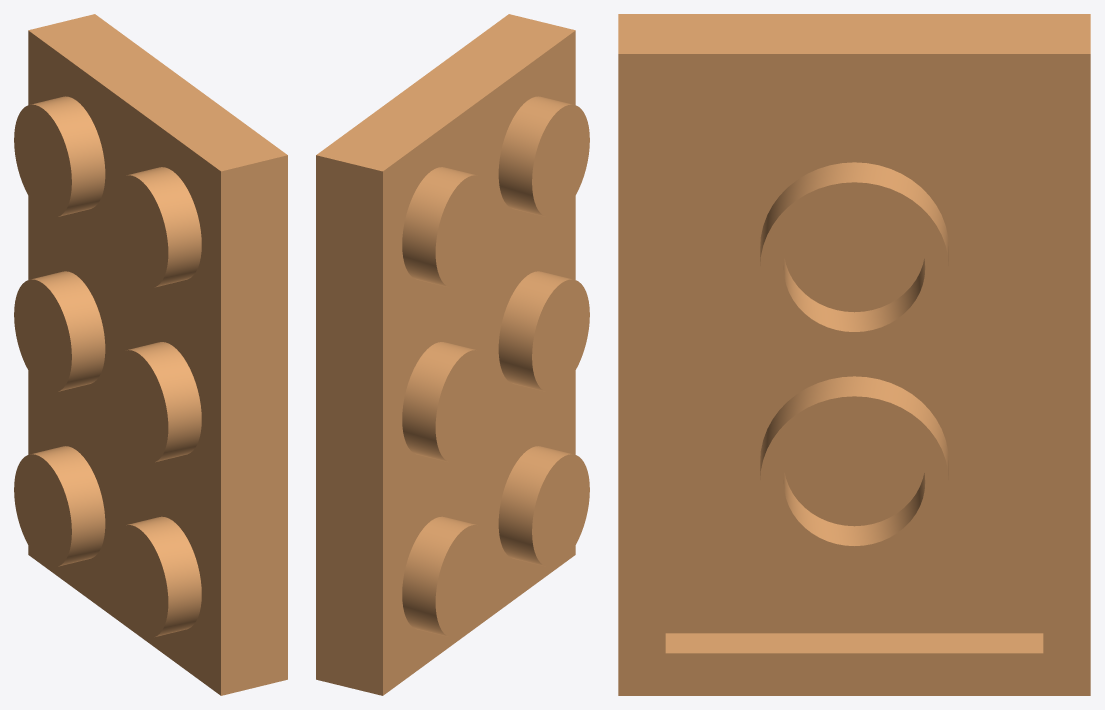
File: plate2*3_light_nougat.obj
3 views of the same model, side by side, from view 1: azimuth 30°, elevation 25°; view 2: azimuth 150°, elevation 25°; view 3: azimuth 270°, elevation 25° (orthographic). The views are drawn at different scales.
Size of the model in its own units: 12 by 60 by 40.
